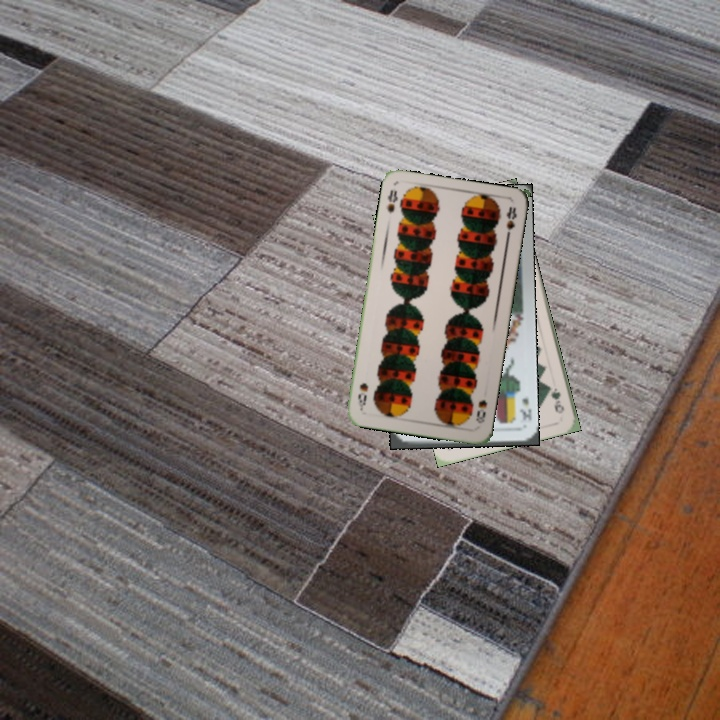EK: (516, 394, 534, 423)
G9: (547, 384, 567, 416)
S8: (472, 396, 490, 426), (383, 186, 400, 216)
